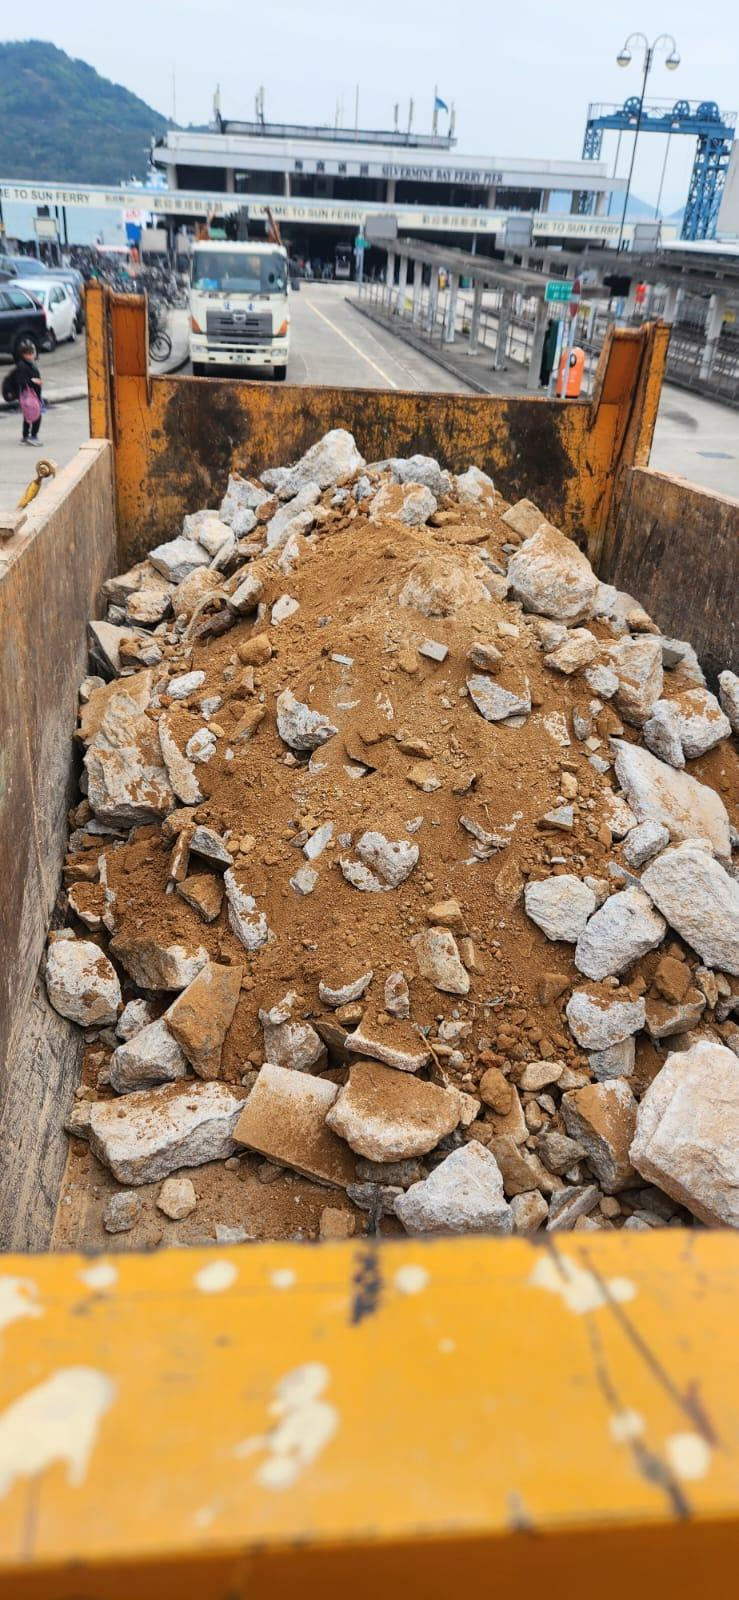dry: (78, 457, 720, 1222)
